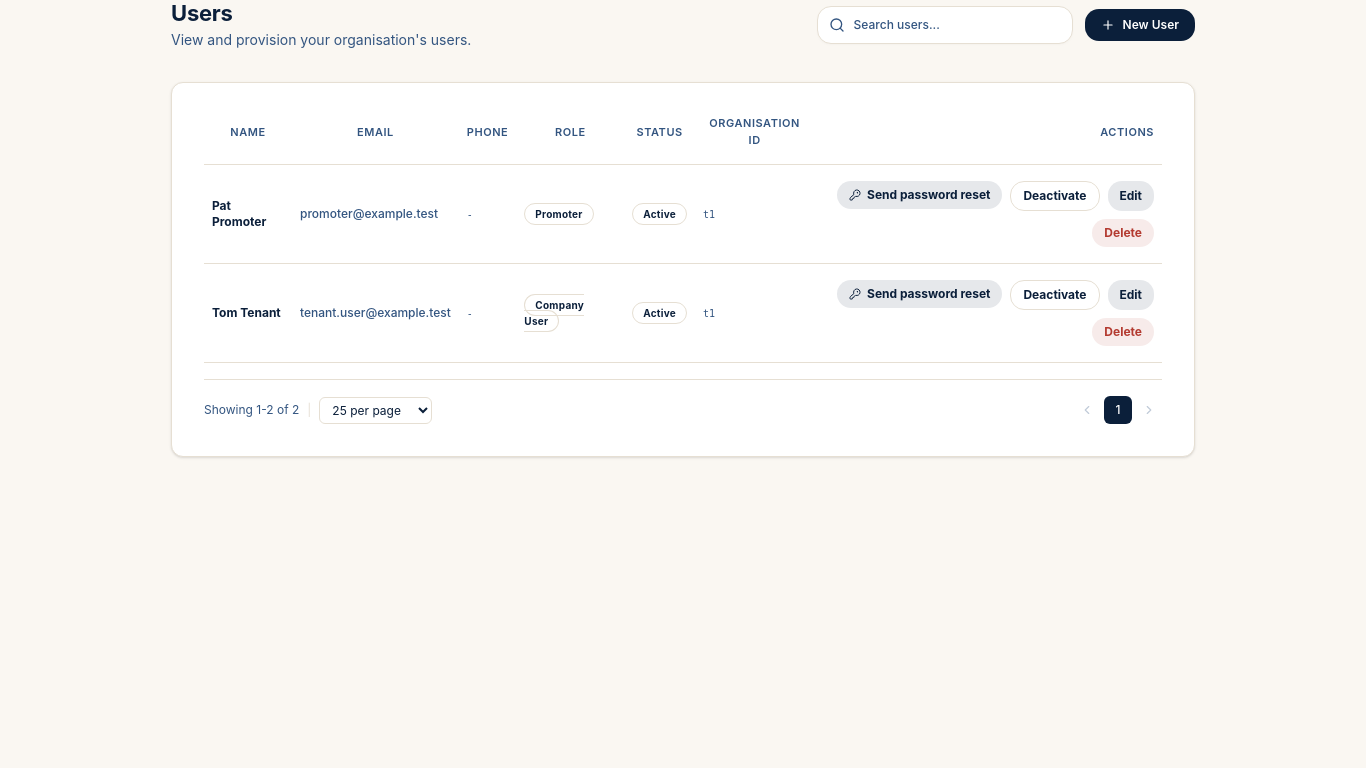
Test: UsersManager and the PROMOTER role › locks an existing promoter's role
The image size is (1366, 768).
Expected: the text "Pat Promoter" is shown, [204, 165, 292, 264]
Click the button "Edit" in the row of "Pat Promoter" at [1131, 196], box [1108, 181, 1154, 211]
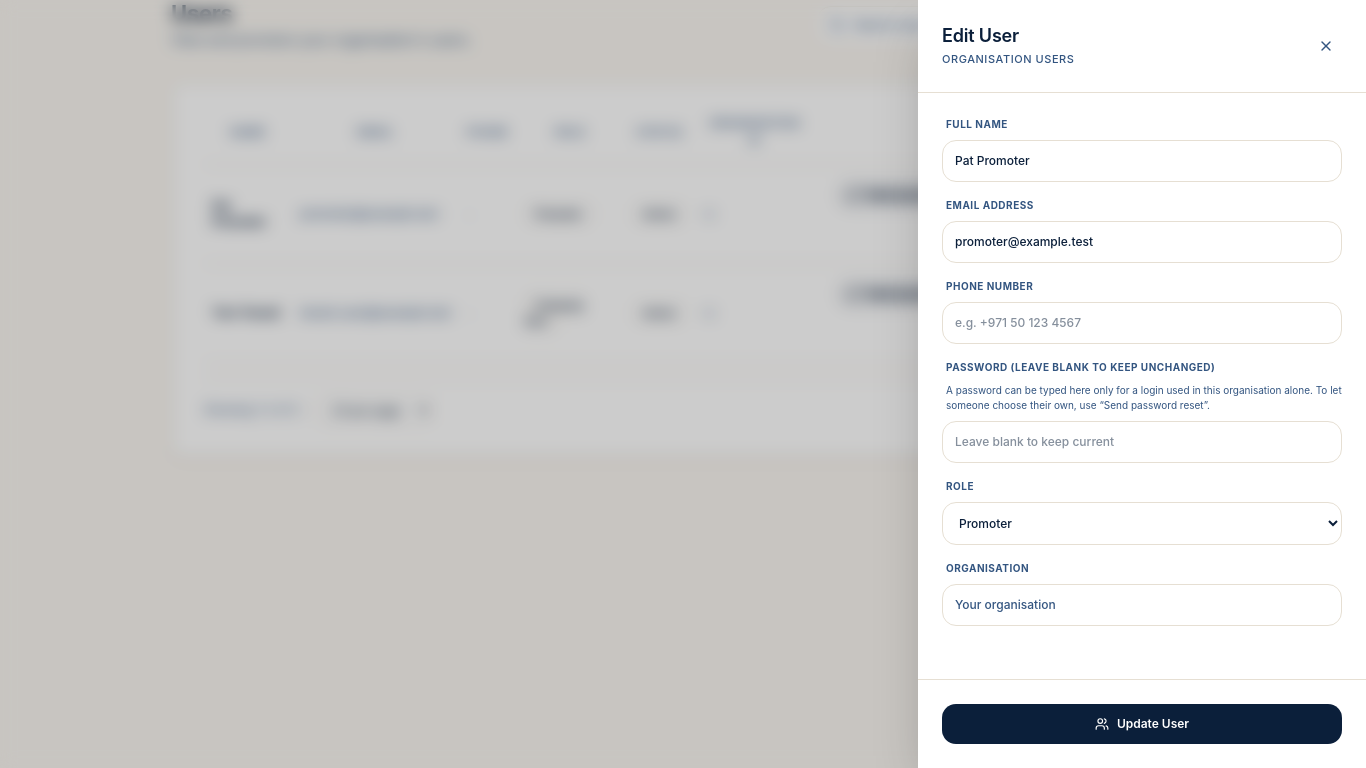
Expected: the field showing "Pat Promoter" below "Full Name" is shown, [942, 140, 1342, 182]
Expected: the dropdown shows "Promoter", [942, 502, 1342, 545]
Expected: the dropdown is disabled, [942, 502, 1342, 545]
